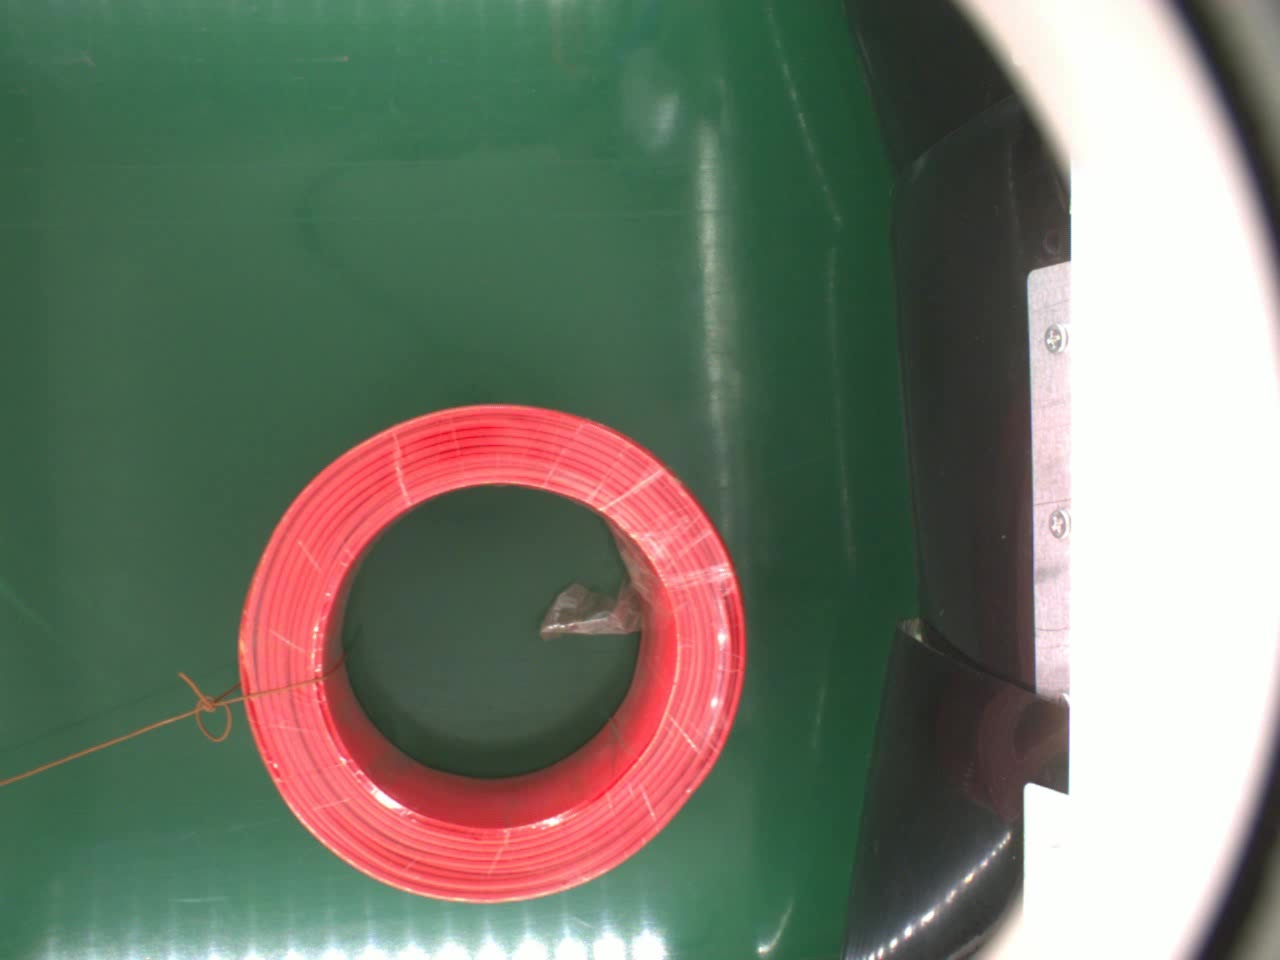red: (231, 397, 755, 910)
